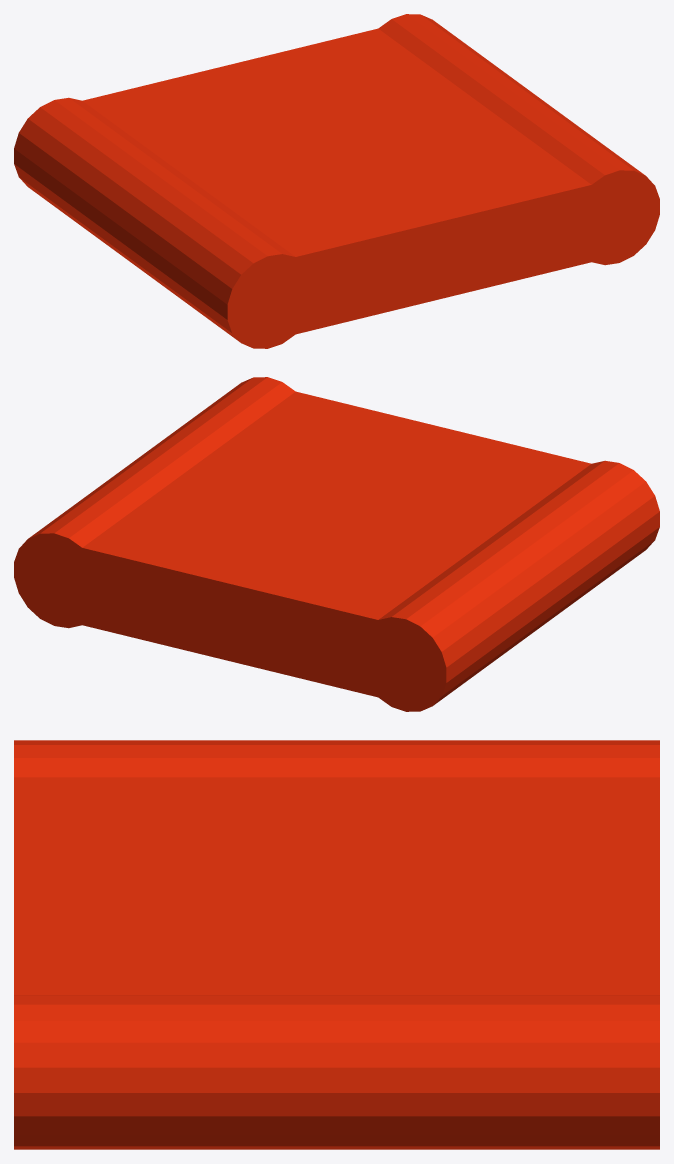
3 views of the same model, one above another, from view 1: azimuth 30°, elevation 25°; view 2: azimuth 150°, elevation 25°; view 3: azimuth 270°, elevation 25° (orthographic). The views are drawn at different scales.
Parts seen in each view (by area): view 1: base_link; view 2: base_link; view 3: base_link.
Part boxes in pixels (bbox=[...]): base_link: bbox=[14, 14, 659, 348]; base_link: bbox=[14, 377, 659, 711]; base_link: bbox=[14, 740, 659, 1149].
Bounding box in the file's own units: 0.0292 × 0.025 × 0.00598.
